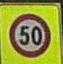limite 50: (8, 12, 50, 57)
